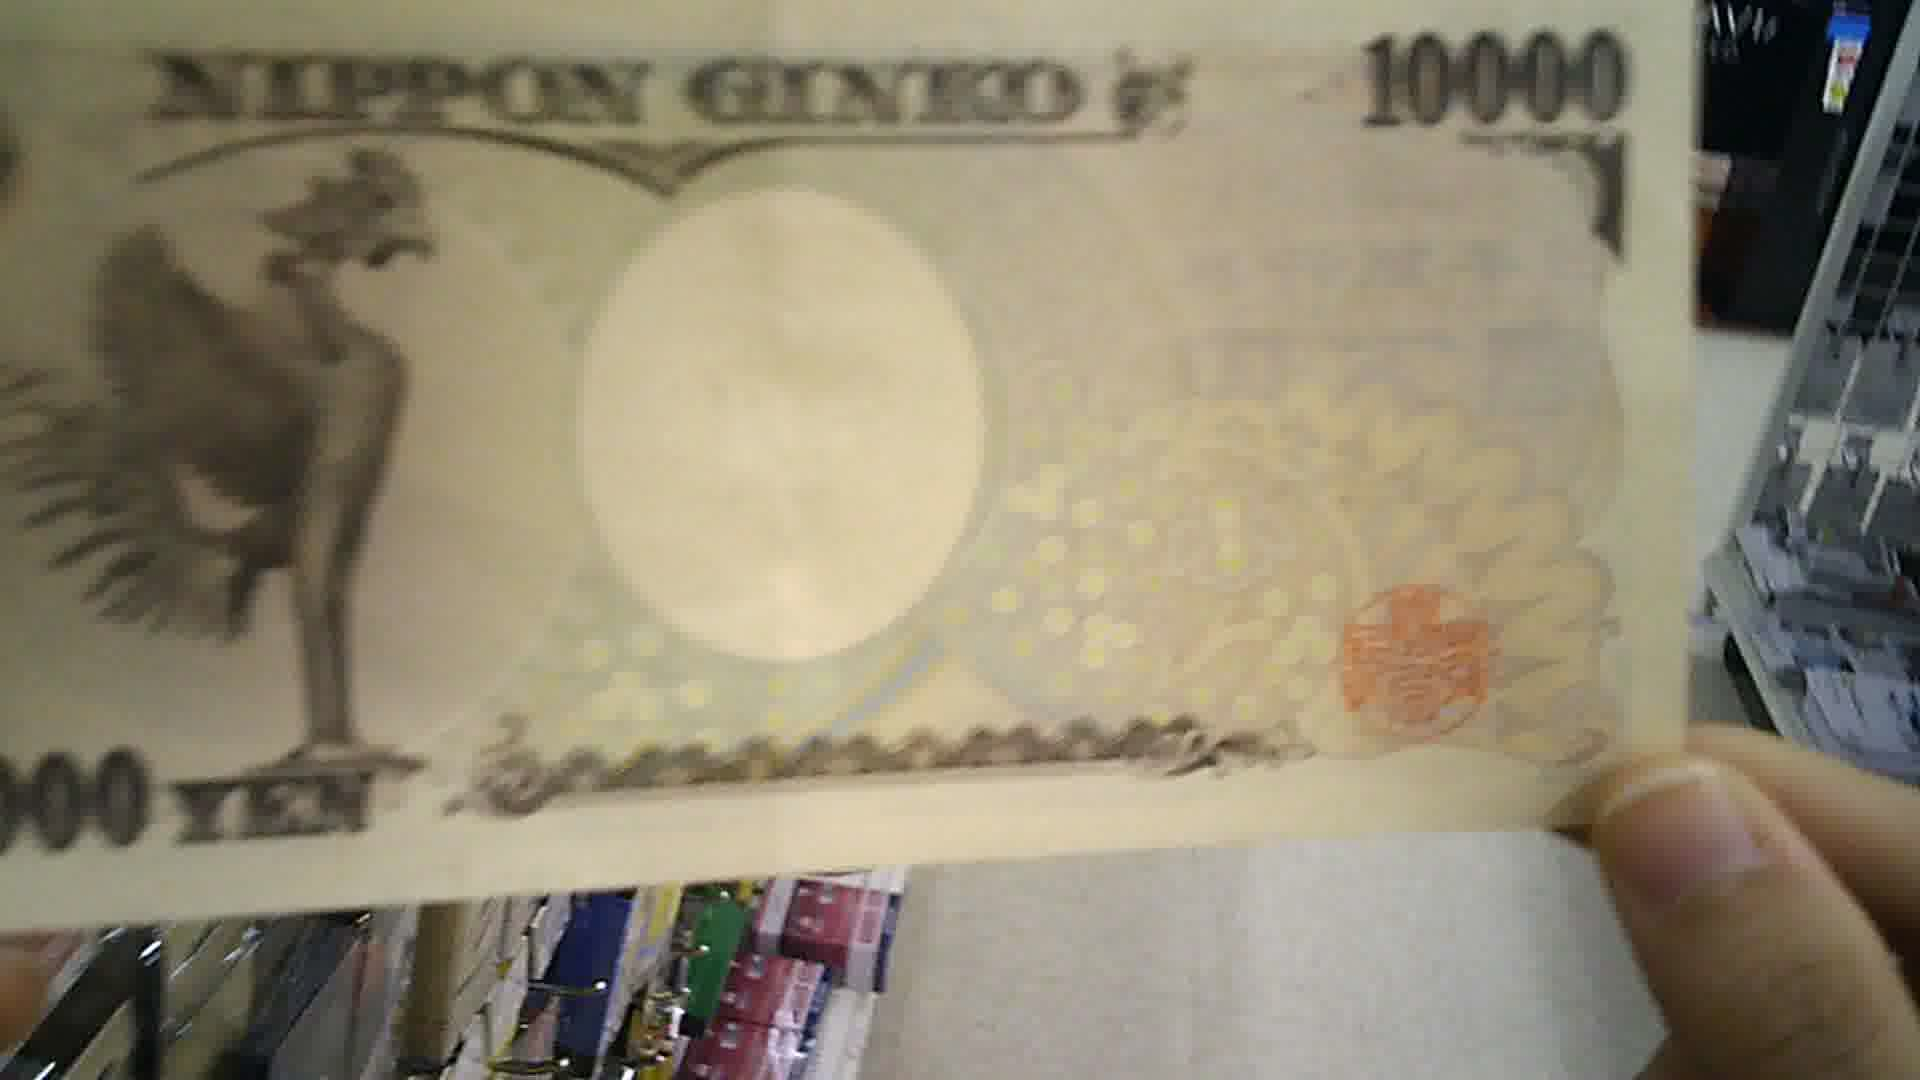10,000 Yen: (11, 11, 1737, 864)
